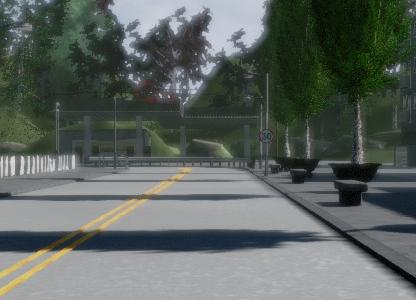Speed_30: (295, 91, 344, 141)
